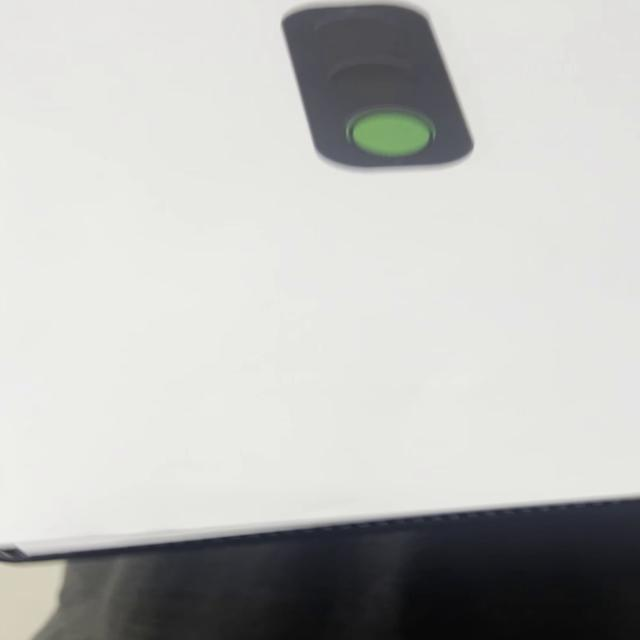green: (282, 7, 475, 170)
